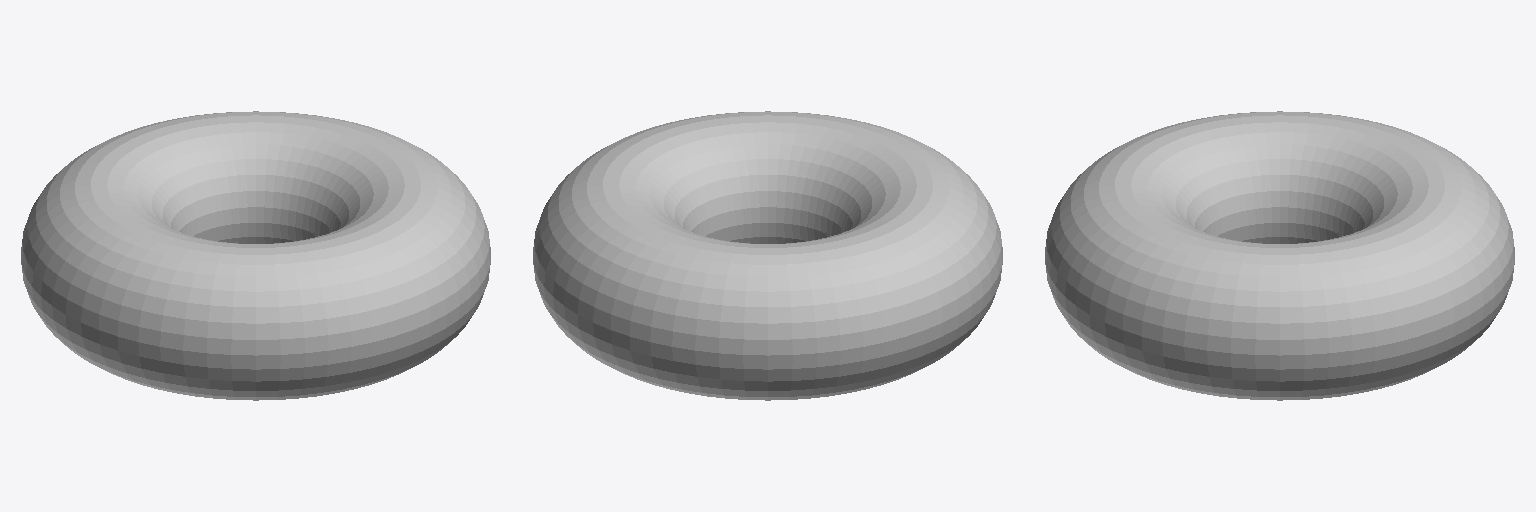
Rendered from donut.obj.
The picture shows the model from 3 angles: view 1: azimuth 30°, elevation 25°; view 2: azimuth 150°, elevation 25°; view 3: azimuth 270°, elevation 25°; orthographic projection.
Parts seen in each view (by area): view 1: Torus.001; view 2: Torus.001; view 3: Torus.001.
Boxes of the visible parts, box(x1,y1,x2,y2) form: Torus.001: box(21, 111, 490, 400); Torus.001: box(533, 111, 1002, 400); Torus.001: box(1045, 111, 1514, 400).
Size of the model in its own units: 1.5 by 0.4973 by 1.5.